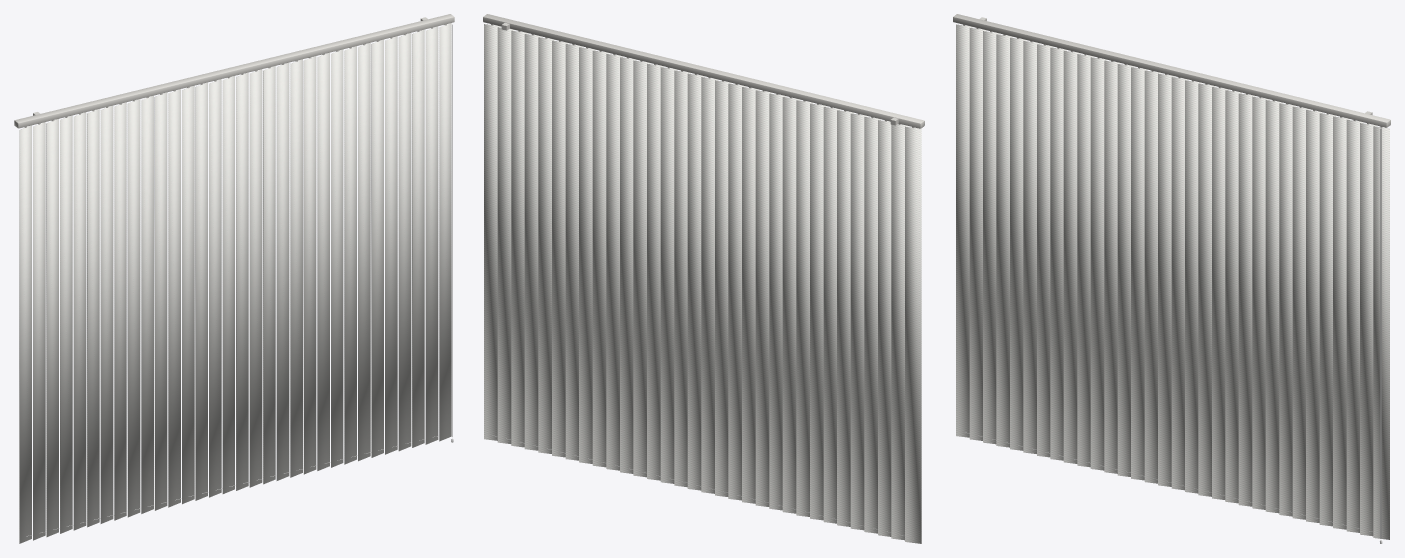
Rendered from cortina_vertical_260_c100.glb.
3 renders of one model, left to right at view 1: azimuth 30°, elevation 25°; view 2: azimuth 150°, elevation 25°; view 3: azimuth 330°, elevation 25°, orthographic.
Parts seen in each view (by area): view 1: cortina_vertical_260_c100; view 2: cortina_vertical_260_c100; view 3: cortina_vertical_260_c100.
Boxes of the visible parts, left/top/right/bottom form: cortina_vertical_260_c100: left=14, top=14, right=454, bottom=543; cortina_vertical_260_c100: left=483, top=14, right=924, bottom=543; cortina_vertical_260_c100: left=953, top=14, right=1390, bottom=543.
Size of the model in its own units: 2.59 by 2.4 by 0.0996.
3 materials, 1 textured.
